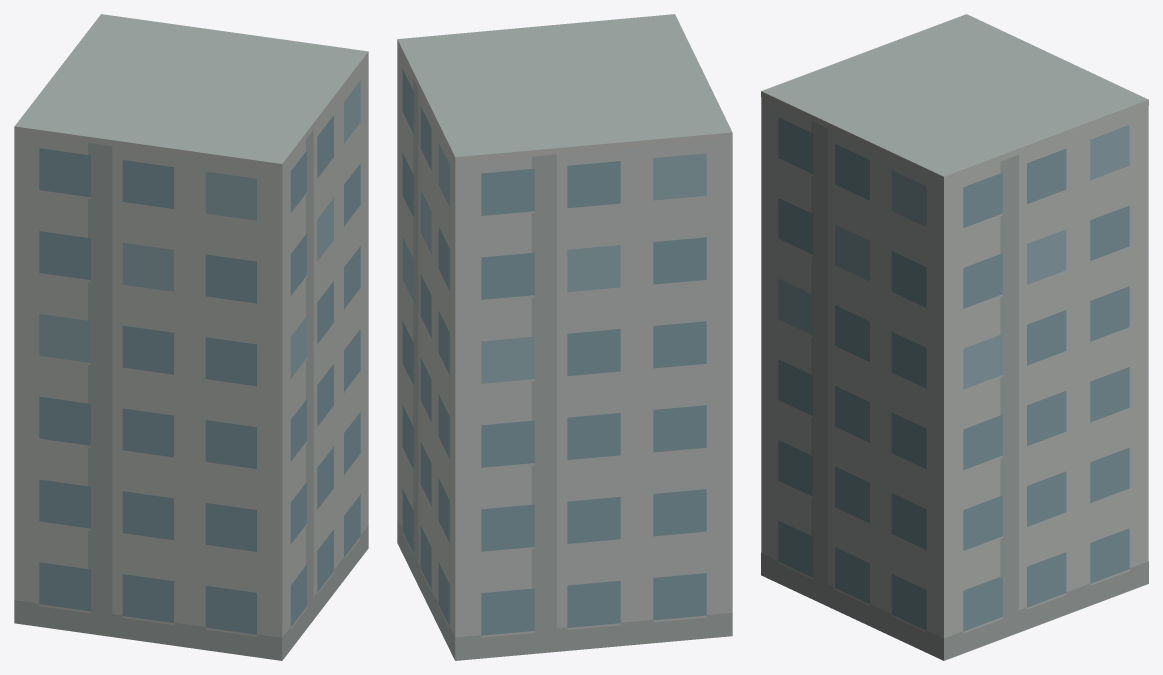
The model's file is survey-upis-32625816.glb.
3 views of the same model, side by side, from view 1: azimuth 30°, elevation 25°; view 2: azimuth 150°, elevation 25°; view 3: azimuth 270°, elevation 25° (orthographic). The views are drawn at different scales.
Parts seen in each view (by area): view 1: survey-upis-32625816.tmp; view 2: survey-upis-32625816.tmp; view 3: survey-upis-32625816.tmp.
Boxes of the visible parts, <box> form: survey-upis-32625816.tmp: <box>14,14,368,660</box>; survey-upis-32625816.tmp: <box>397,14,732,660</box>; survey-upis-32625816.tmp: <box>761,14,1148,660</box>.
Size of the model in its own units: 14.14 by 19.6 by 14.23.
